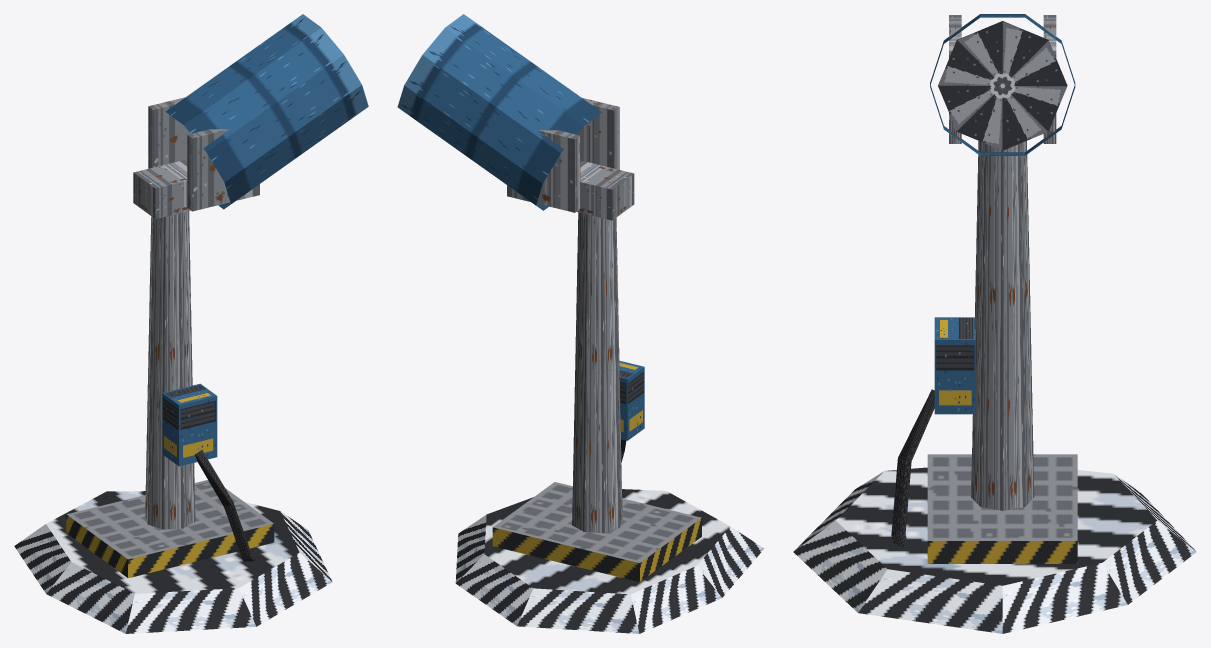
Rendered from SnowGun.glb.
3 views of the same model, side by side, from view 1: azimuth 30°, elevation 25°; view 2: azimuth 150°, elevation 25°; view 3: azimuth 270°, elevation 25° (orthographic). The views are drawn at different scales.
Visible parts, largest first — view 1: SnowGun; view 2: SnowGun; view 3: SnowGun, SnowGun_spin0.
Part boxes in pixels (x1,y1,x2,y2): SnowGun: [14, 14, 368, 633]; SnowGun: [397, 14, 764, 633]; SnowGun: [793, 14, 1196, 633]; SnowGun_spin0: [938, 21, 1067, 150].
Bounding box in the file's own units: 2.72 × 4.32 × 2.55.
1 material, 1 textured.
